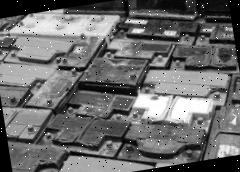electronic: (63, 42, 160, 108)
